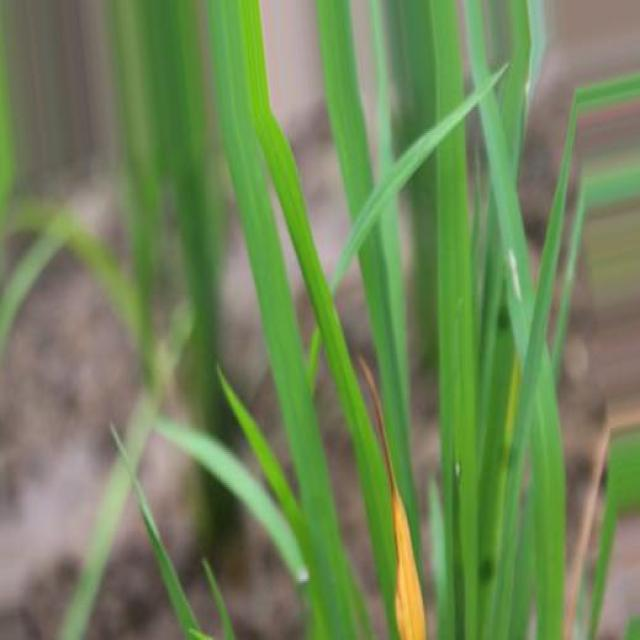Rice Tungro: (392, 486, 426, 640)
